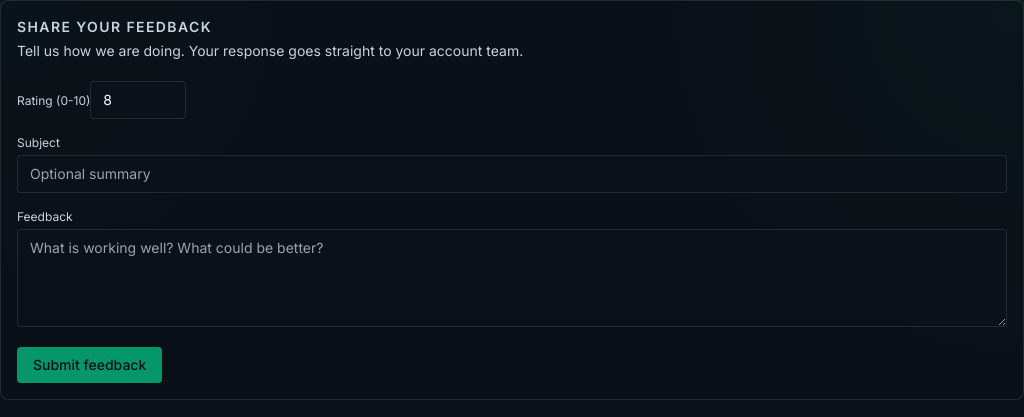
Test case: PortalFeedbackForm › shows an error when submission fails
Click the button "Submit feedback" at (90, 365), box [17,347,162,383]
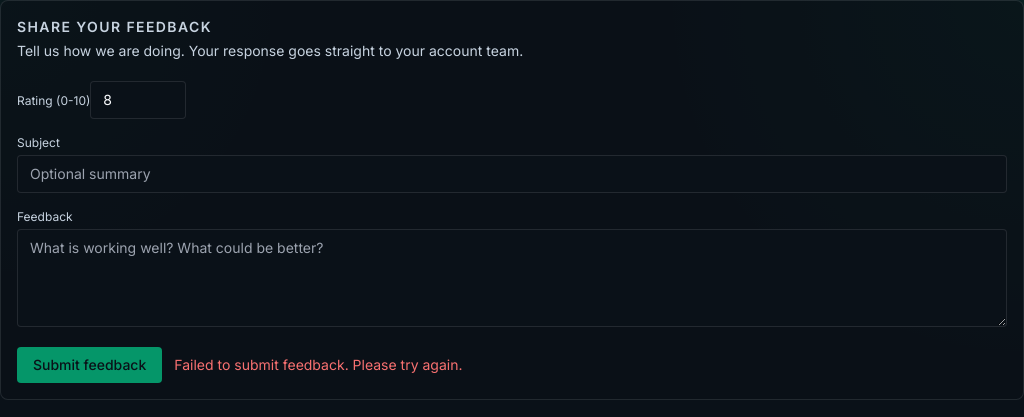
Check: the text "Failed to submit feedback. Please try again." is shown, box [174,355,462,375]
